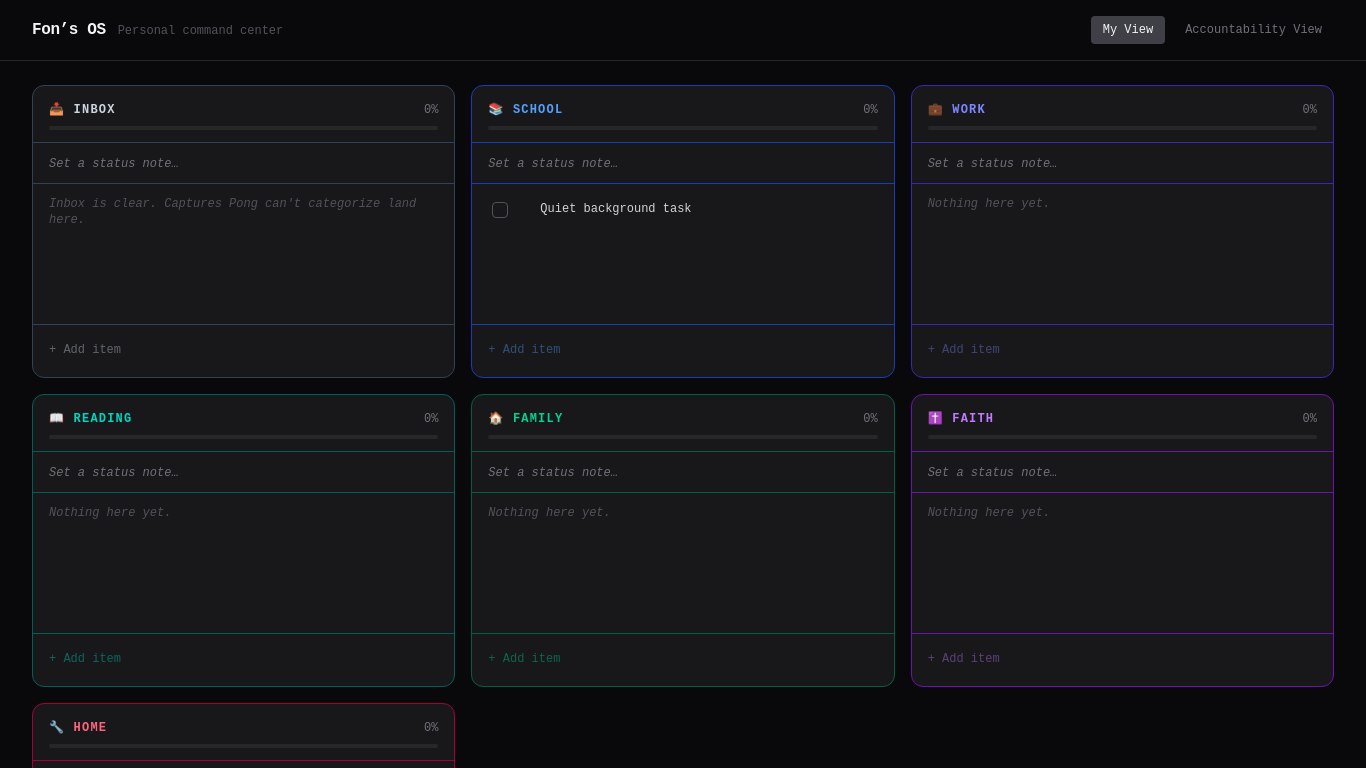
Scenario: Accountability View › summarises rather than lists: an unprioritised, undated task is counted but not named
Click the button "Accountability View": (1254, 30) x1=1173 y1=16 x2=1334 y2=44
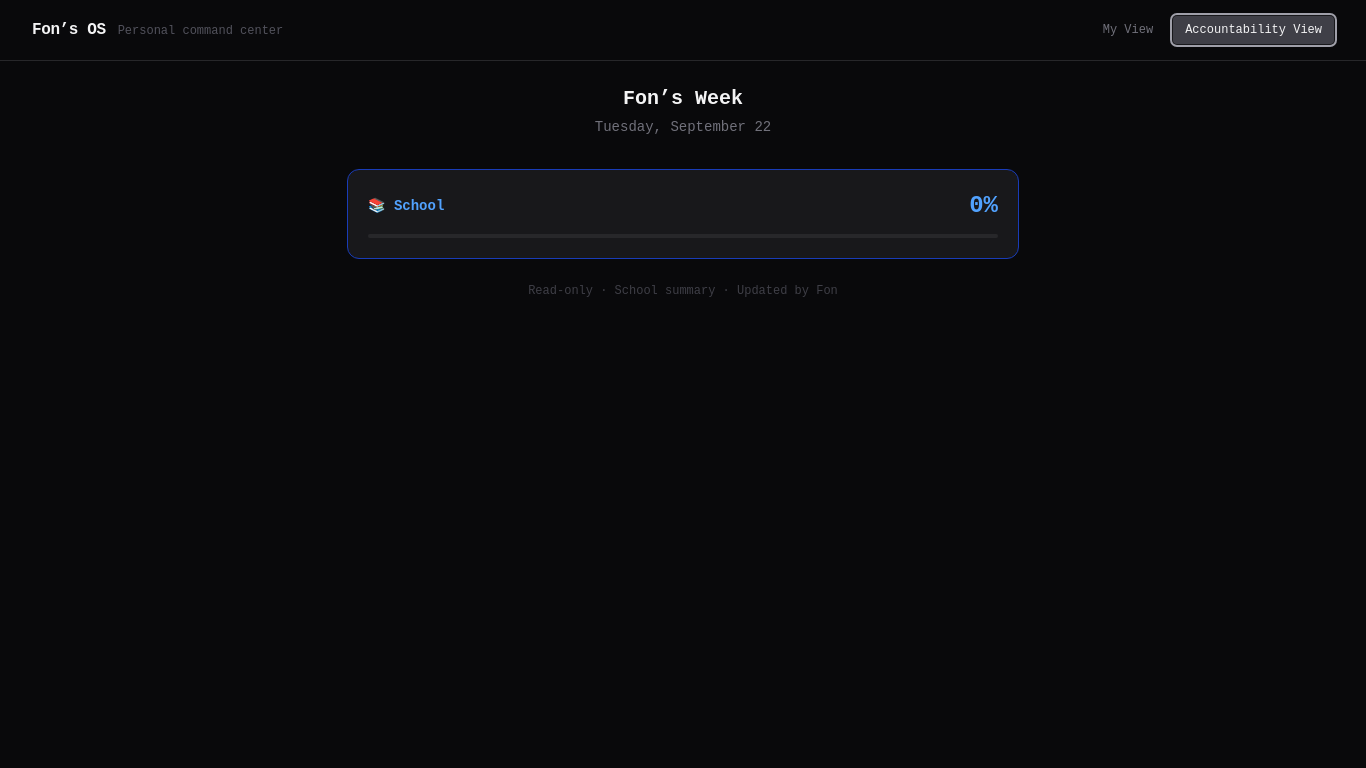
Expected: the button "Quiet background task" is gone
